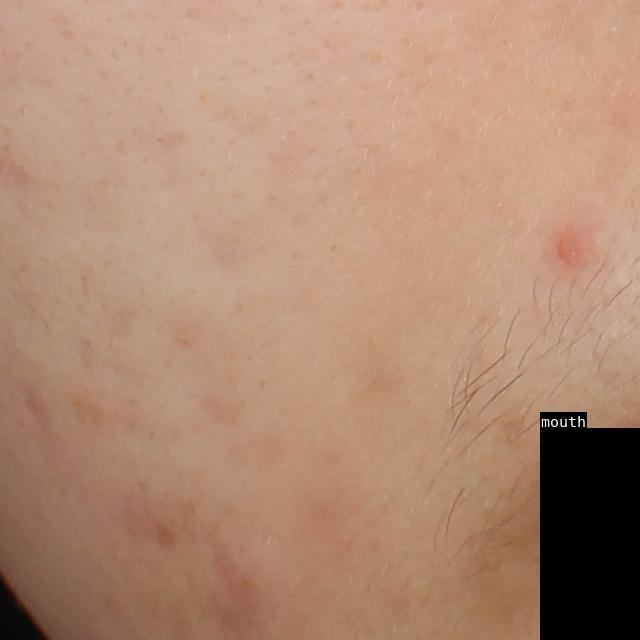papule: (555, 240, 581, 270)
